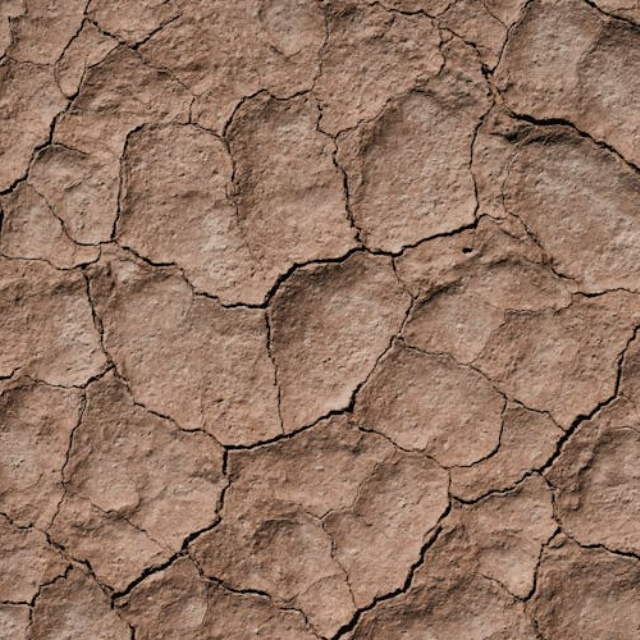细微裂纹: (490, 249, 602, 640), (446, 46, 640, 226)
网状裂隙: (0, 0, 511, 640)
